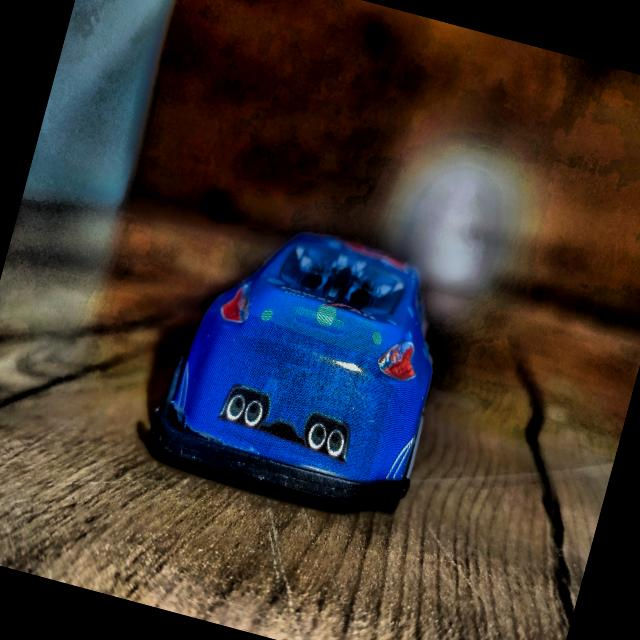Car: (141, 205, 464, 520)
